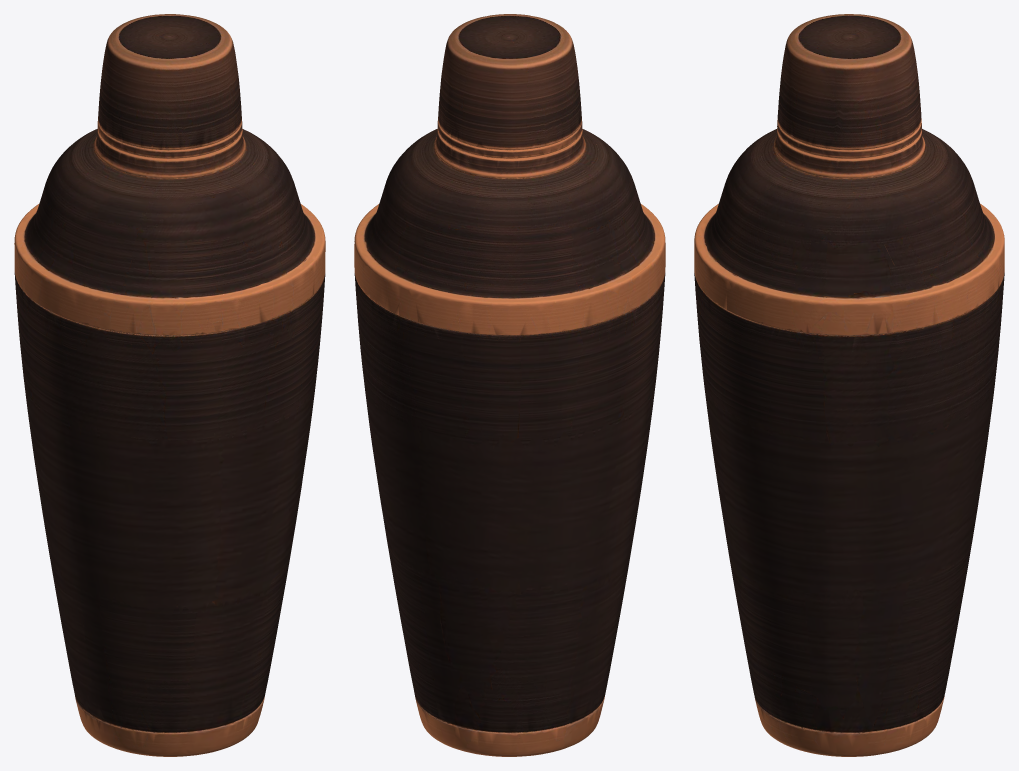
The model's file is shaker.glb.
3 views of the same model, side by side, from view 1: azimuth 30°, elevation 25°; view 2: azimuth 150°, elevation 25°; view 3: azimuth 270°, elevation 25° (orthographic).
Bounding box in the file's own units: 0.7825 × 1.9 × 0.7827.
Materials: 1 (1 with a texture image).
